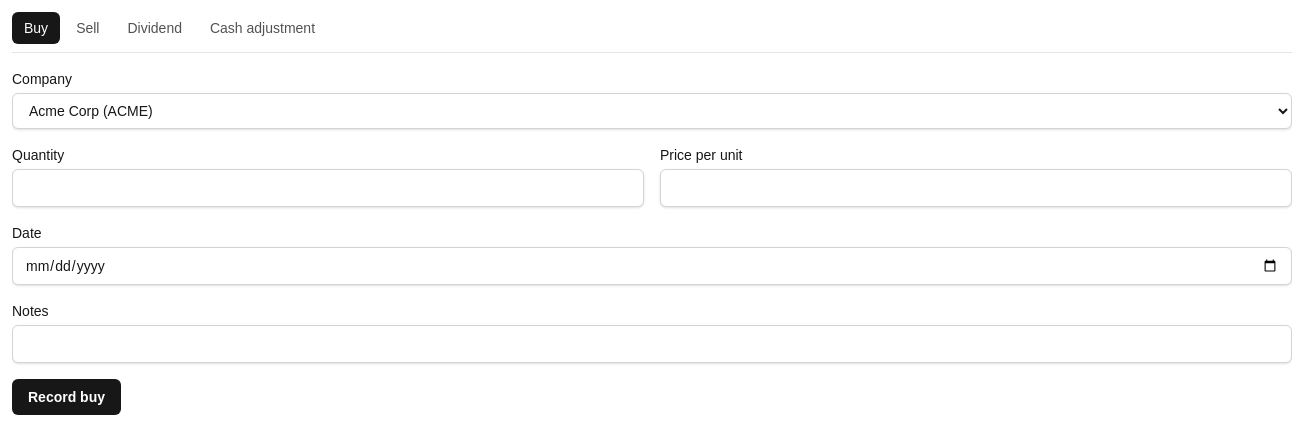
Test: TransactionForms › switches to the cash adjustment form, which needs no company selector
The image size is (1304, 432).
Step 1. Click the button "Cash adjustment" → (263, 28), box x1=198 y1=12 x2=327 y2=44
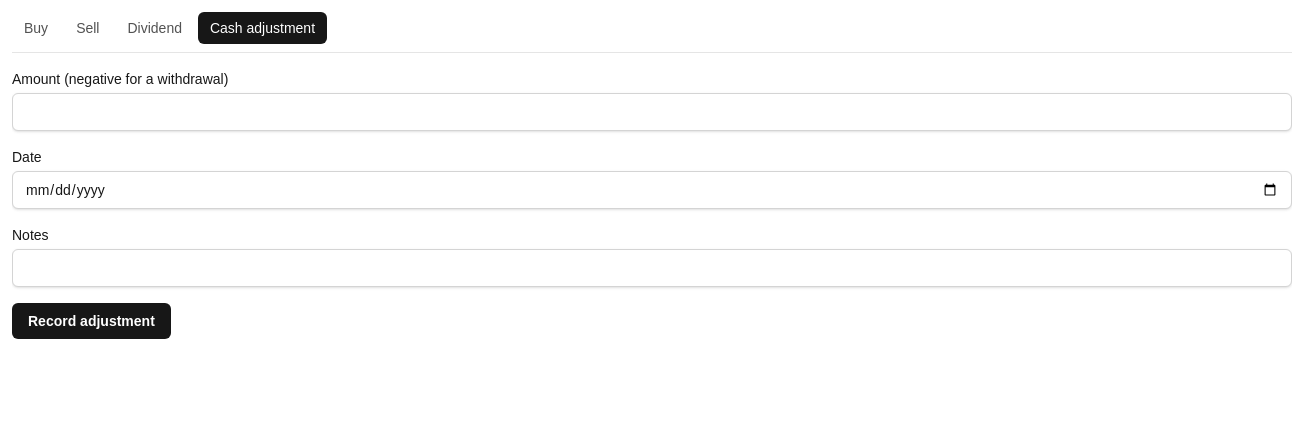
Now the button "Record adjustment" is shown, box x1=12 y1=303 x2=171 y2=339
Now the label labelled "Company" is gone
